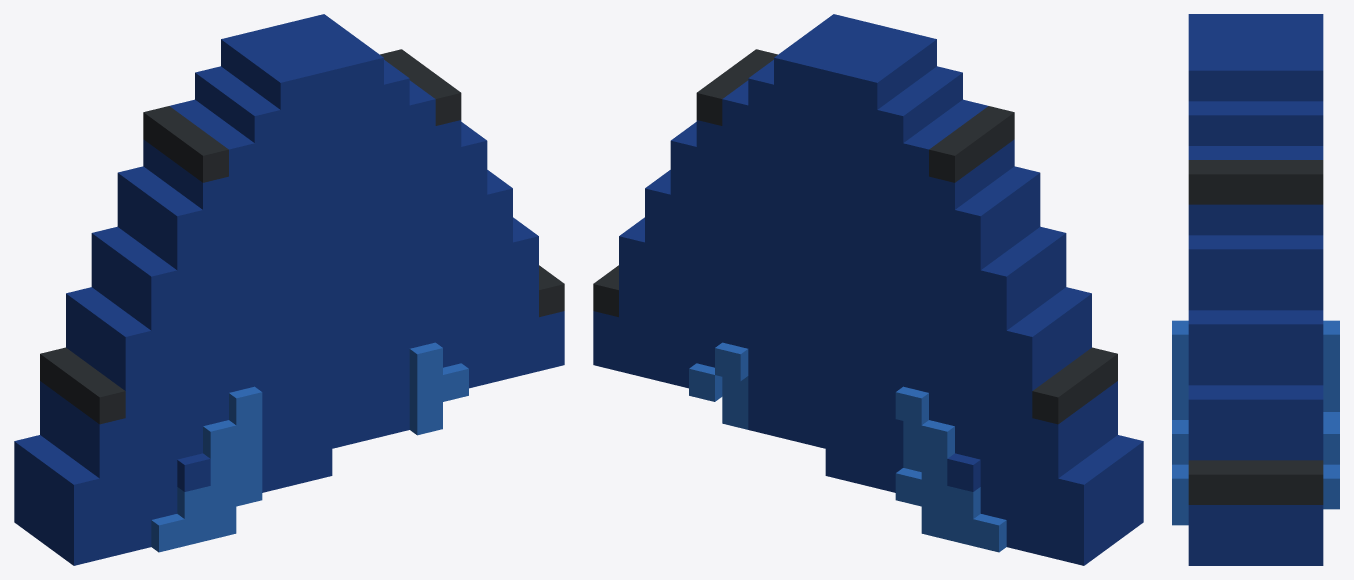
File: BattleshipPart4.fbx
3 views of the same model, side by side, from view 1: azimuth 30°, elevation 25°; view 2: azimuth 150°, elevation 25°; view 3: azimuth 270°, elevation 25° (orthographic). The views are drawn at different scales.
Visible parts, largest first — view 1: generated; view 2: generated; view 3: generated.
Part boxes in pixels (left/top/right/bottom): generated: left=14, top=14, right=564, bottom=565; generated: left=593, top=14, right=1143, bottom=565; generated: left=1172, top=14, right=1339, bottom=565.
Bounding box in the file's own units: 190 × 160 × 50.
